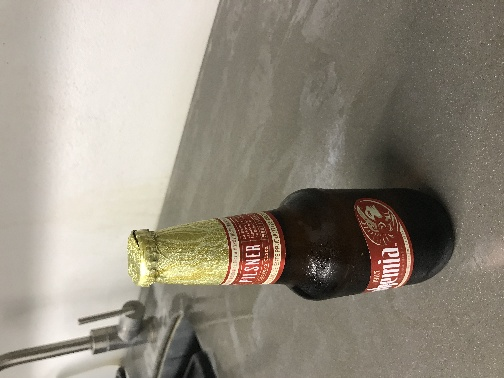BPB: (91, 136, 332, 220)
